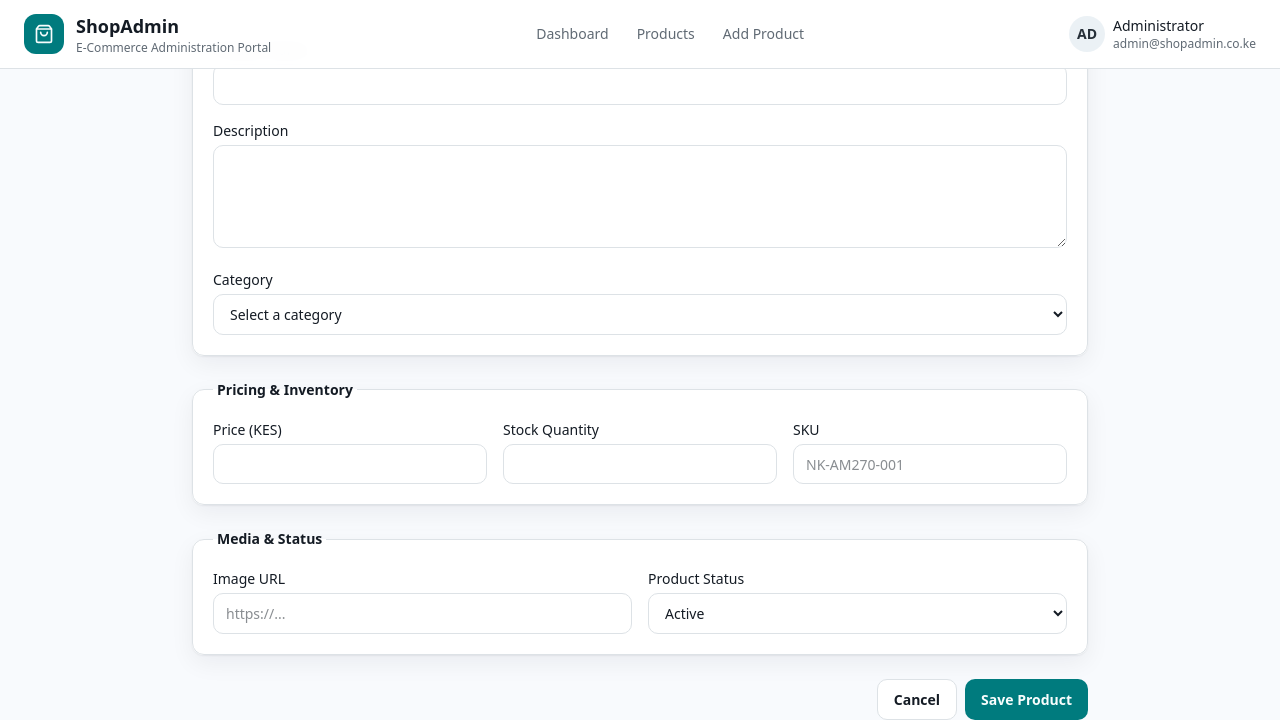
Add Product form › rejects an empty submission and shows validation messages
(page scrolled)
Click the button "Save Product". click: (1027, 699)
box: [965,679,1088,719]
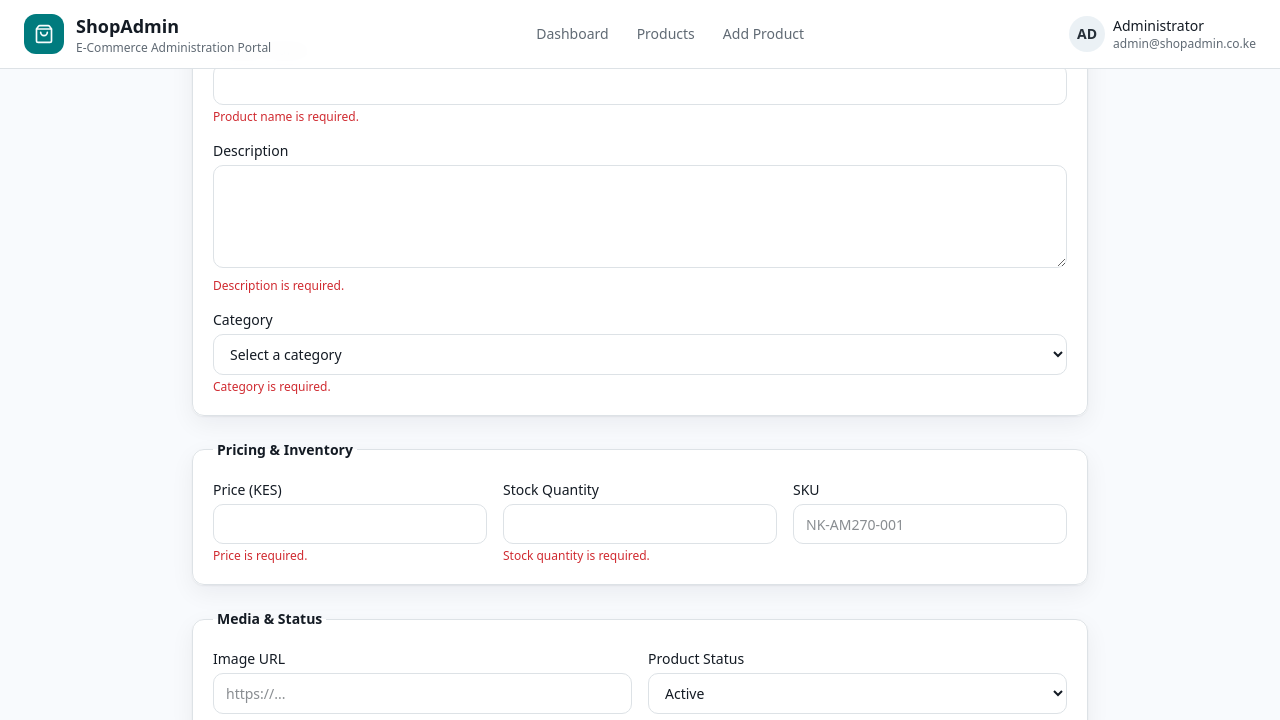
Result: the text "Product name is required." is shown at [213,108,359,125]
Result: the text "Description is required." is shown at [213,277,344,294]
Result: the text "Price is required." is shown at [213,547,307,564]
